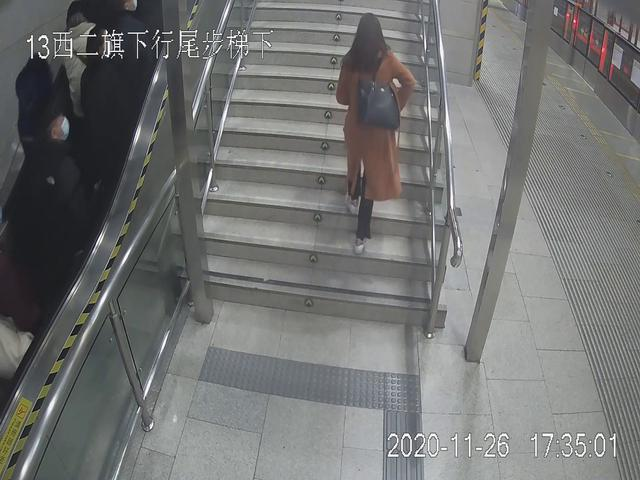person: (323, 9, 418, 260), (13, 89, 85, 275)
